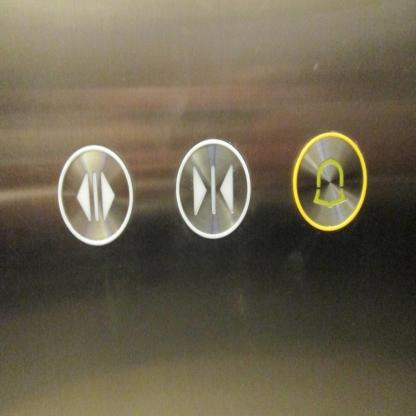alarm: (291, 129, 368, 233)
close: (174, 136, 252, 242)
open: (57, 143, 134, 248)
